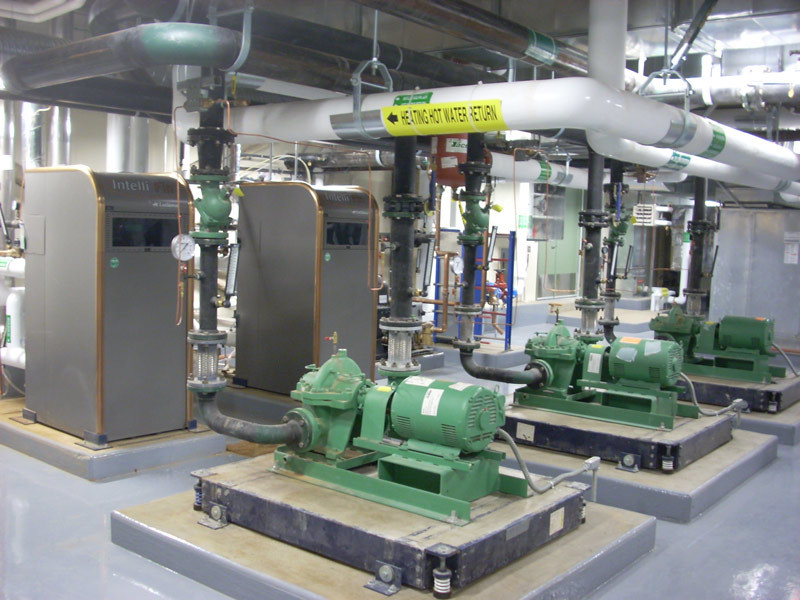valve: (223, 71, 244, 105)
